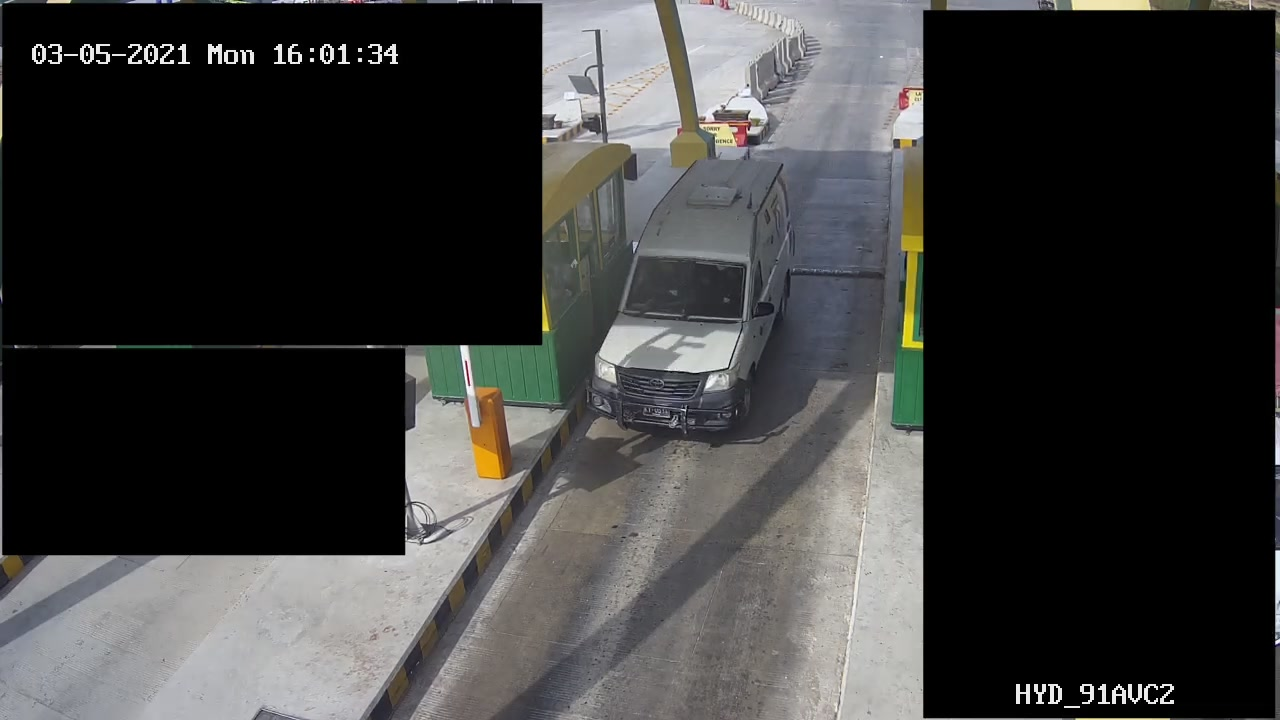F1: (575, 155, 793, 438)
